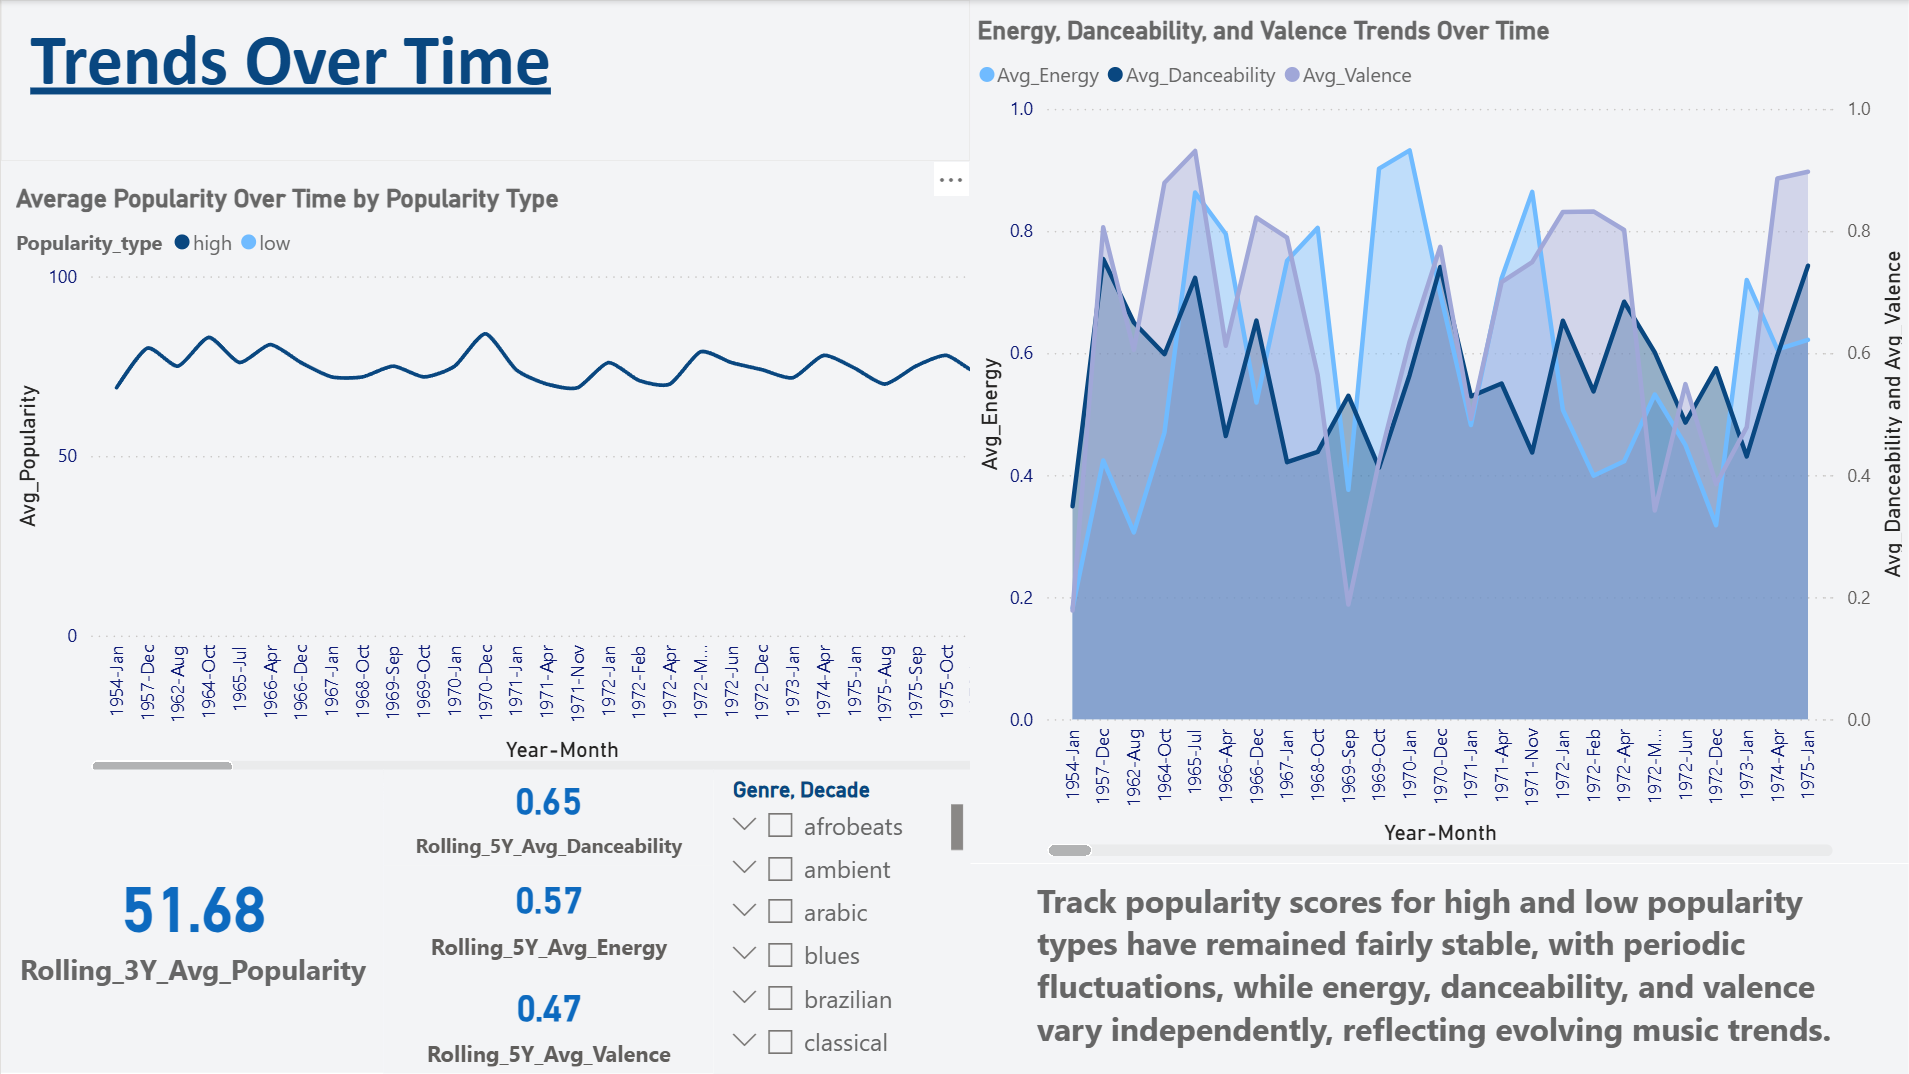

The dashboard page shown, as its layout file describes it:
{"tool":"powerbi","page":{"name":"Trends Over Time","canvas":[1280,720],"ordinal":1},"visuals":[{"type":"lineChart","title":"Average Popularity Over Time by Popularity Type","fields":{"Category":["Date.Year-Month"],"Y":["_Measures.Avg_Popularity"],"Series":["Spotify_data.Popularity_type"]},"box":[0,107.8,696.7,415.6],"z":0},{"type":"areaChart","title":"Energy, Danceability, and Valence Trends Over Time","fields":{"Category":["Date.Year-Month"],"Y":["_Measures.Avg_Energy"],"Y2":["_Measures.Avg_Danceability","_Measures.Avg_Valence"]},"box":[650,0,630,578.9],"z":1000},{"type":"card","fields":{"Values":["_Measures.Rolling_3Y_Avg_Popularity"]},"box":[0,515.6,256.7,203.3],"z":2000},{"type":"card","fields":{"Values":["_Measures.Rolling_5Y_Avg_Energy"]},"box":[256.7,580,221.1,70],"z":3000},{"type":"slicer","fields":{"Values":["Spotify_data.Genre","Date.Decade"]},"box":[477.8,515.6,172.2,204.4],"z":4000},{"type":"textbox","box":[0,0,650,107.8],"z":5000},{"type":"textbox","box":[650,578.9,630,141.1],"z":6000},{"type":"card","fields":{"Values":["_Measures.Rolling_5Y_Avg_Danceability"]},"box":[256.7,515.6,221.1,64.4],"z":7000},{"type":"card","fields":{"Values":["_Measures.Rolling_5Y_Avg_Valence"]},"box":[256.7,650,221.1,70],"z":8000}]}

Visuals, with their boxes in screenshot pixels (x1, y1, x2, y2), scaled from the page's 1280x720 canvas onto the 1909x1074 screenshot:
"Average Popularity Over Time by Popularity Type" lineChart: (x1=0, y1=161, x2=1039, y2=781)
"Energy, Danceability, and Valence Trends Over Time" areaChart: (x1=969, y1=0, x2=1908, y2=864)
card - _Measures.Rolling_3Y_Avg_Popularity: (x1=0, y1=769, x2=383, y2=1072)
card - _Measures.Rolling_5Y_Avg_Energy: (x1=383, y1=865, x2=713, y2=970)
slicer - Spotify_data.Genre x Date.Decade: (x1=713, y1=769, x2=969, y2=1073)
textbox: (x1=0, y1=0, x2=969, y2=161)
textbox: (x1=969, y1=864, x2=1908, y2=1073)
card - _Measures.Rolling_5Y_Avg_Danceability: (x1=383, y1=769, x2=713, y2=865)
card - _Measures.Rolling_5Y_Avg_Valence: (x1=383, y1=970, x2=713, y2=1073)
